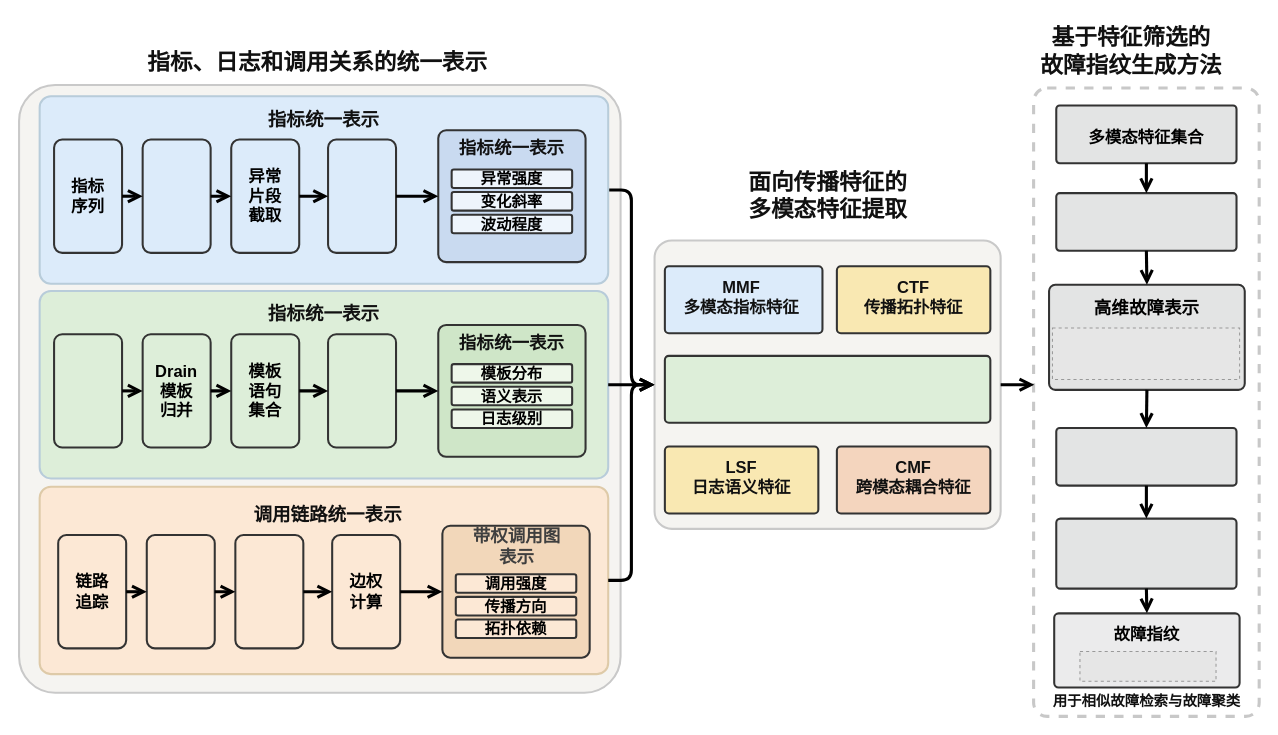
Image size: 1278x735. Some labels were removed from this diagram. Grey dashed boxes stand in for pictures. Each missing label, with the centre of its shape:
"LCF 时序关联特征" belongs at point 827,388.
"形态 摘要 构建" belongs at point 362,195.
"日志 序列" belongs at point 88,390.
"时间 对齐" belongs at point 176,195.
"服务 依赖 整理" belongs at point 269,591.
"标准化处理" belongs at point 1146,456.
"特征拼接" belongs at point 1146,221.
"特征筛选 SelectKBest" belongs at point 1146,553.
"语义 嵌入 表示" belongs at point 362,390.
"调用 抽取" belongs at point 180,591.
